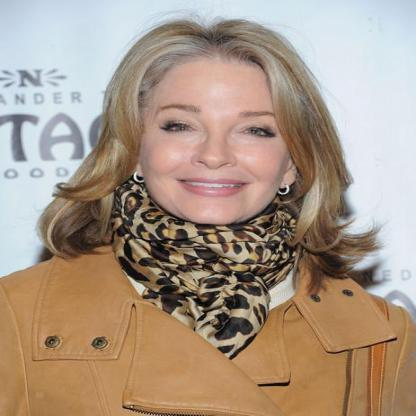long-hair: (20, 204, 396, 279)
